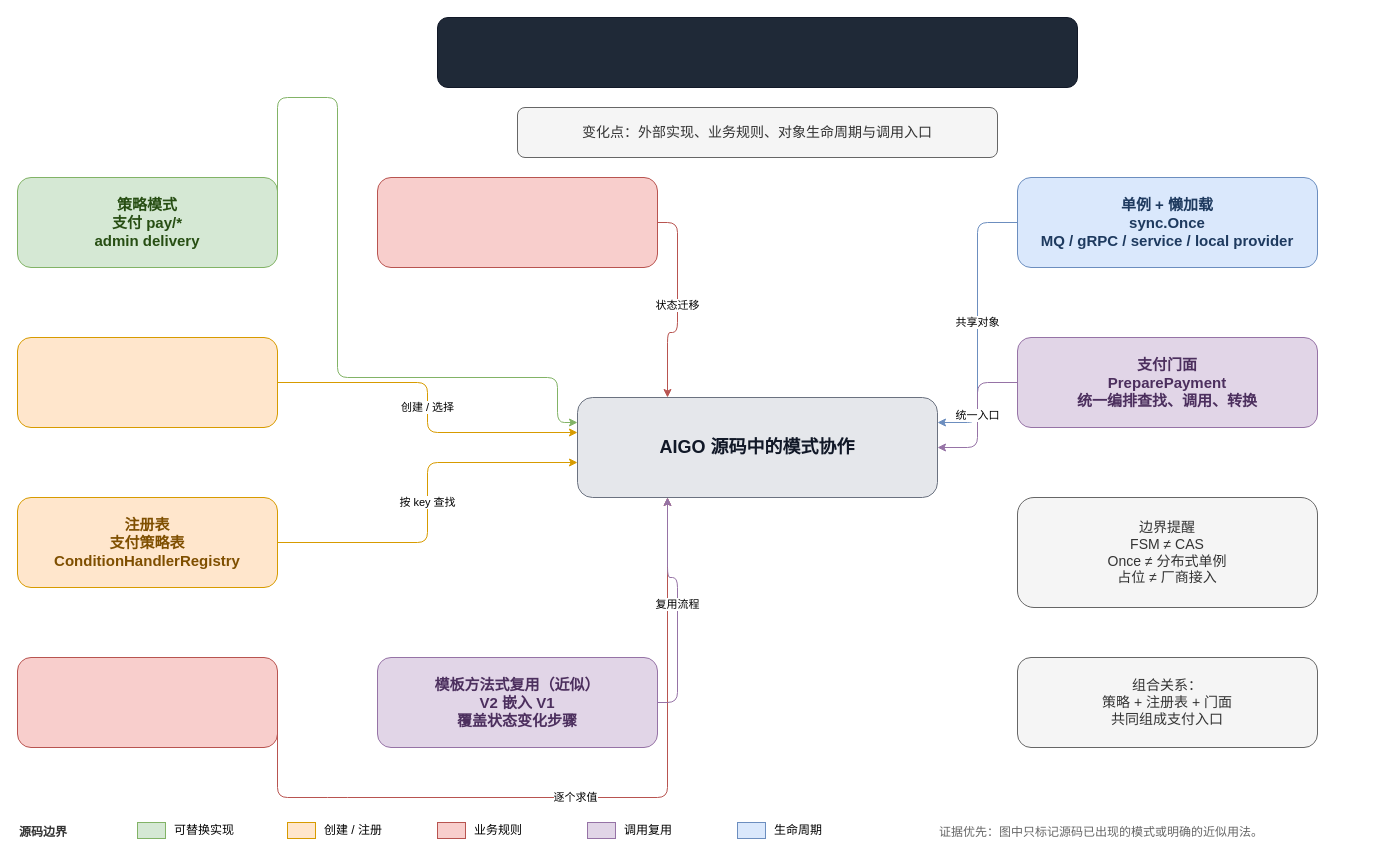
This 1375x865 diagram has some shape labels left out. The centre of each missing label's shape, as x and y in pixels:
AIGO 微服务电商项目 设计模式全景（源码证据版）: (757,52)
工厂 / 适配选择 pkg/mq/factory.go NewProvider: (147,382)
投放责任链 条件按 sort_order 求值 不满足即短路: (147,702)
订单状态机 looplab/fsm pay / cancel / ship / receipt: (517,222)
